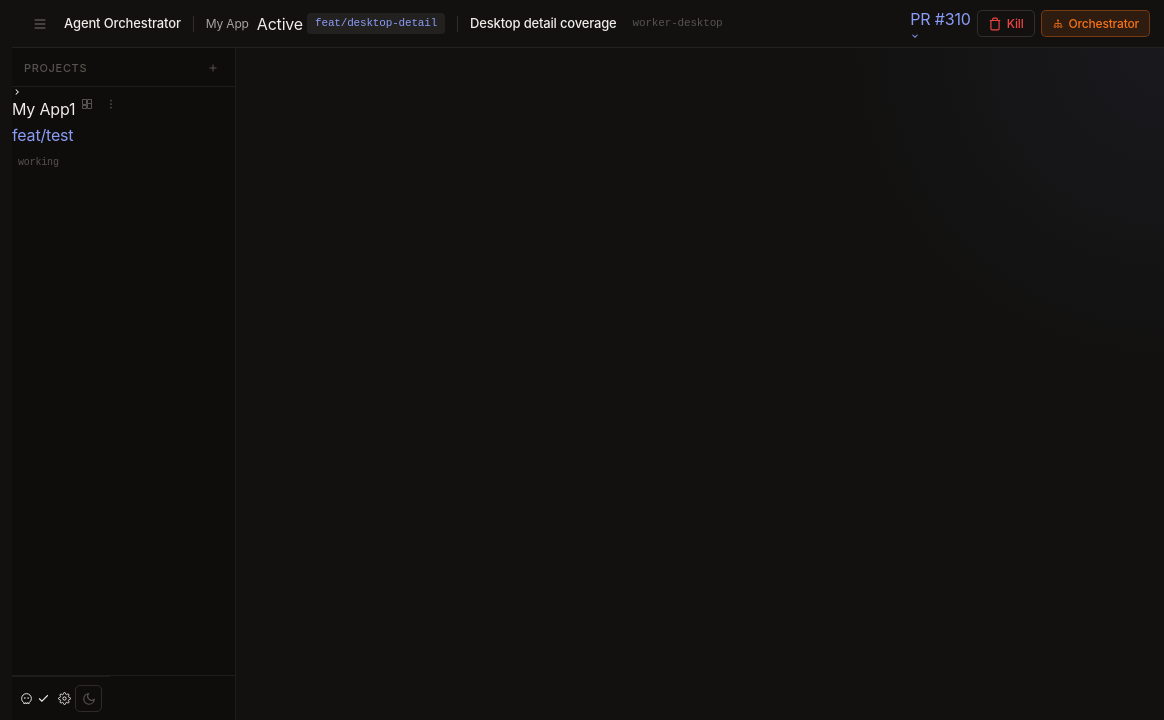
Test case: SessionDetail desktop layout › renders the desktop shell, PR blockers, and unresolved comments
Check: the button named "Toggle sidebar" is shown, box [26,10,54,38]
Click the link "PR #310" at (941, 18), box [910,8,971,40]
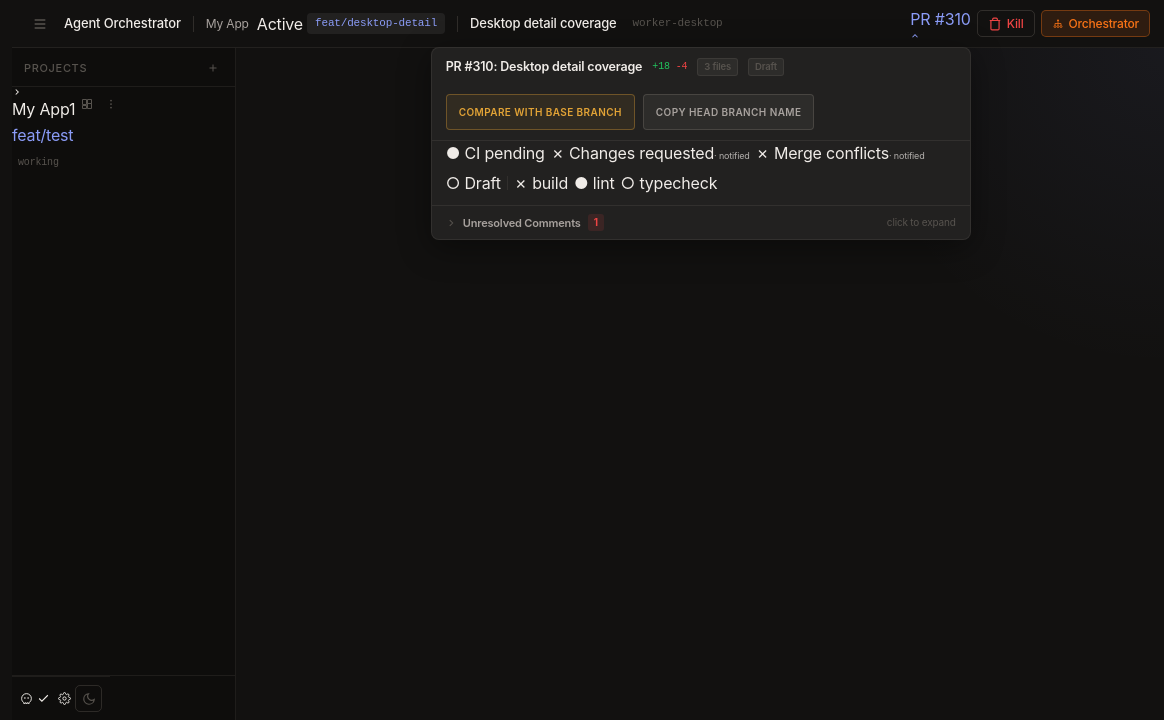
Check: the text "3 files" is shown, box [697,58,738,76]
Check: the text "Draft" is shown, box [748,58,784,76]
Check: the text "✗ Changes requested· notified" is shown, box [551,141,750,165]
